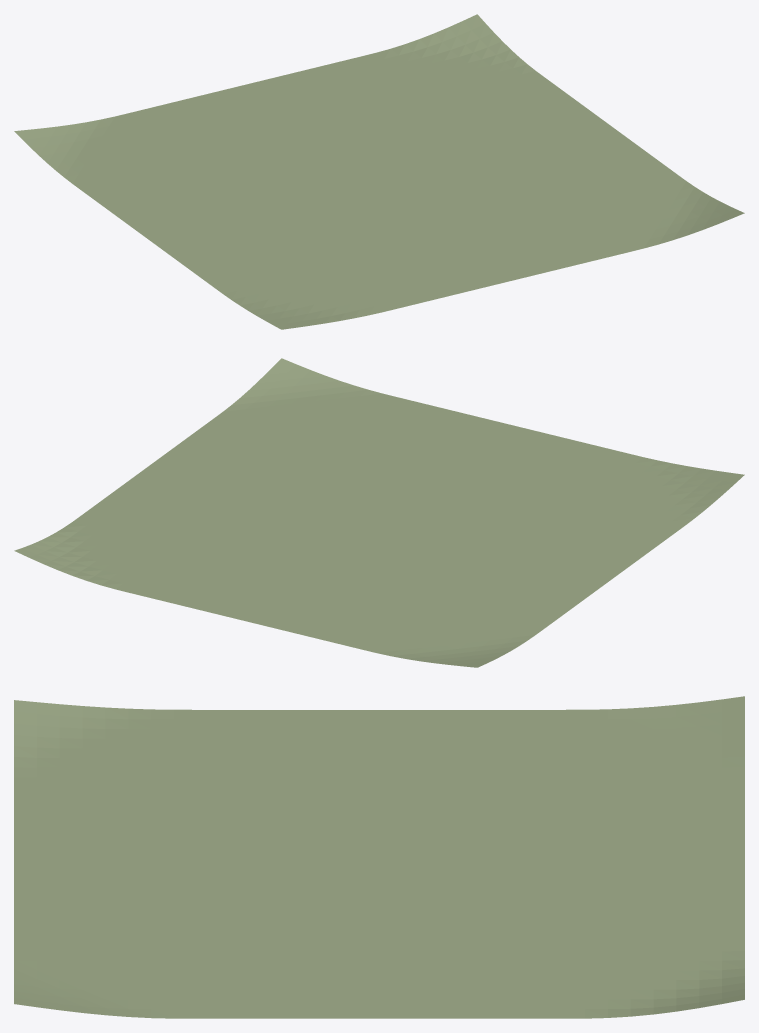
The model's file is gardens-6-2.glb.
The picture shows the model from 3 angles, top to bottom: view 1: azimuth 30°, elevation 25°; view 2: azimuth 150°, elevation 25°; view 3: azimuth 270°, elevation 25°; orthographic projection. The views are drawn at different scales.
Parts seen in each view (by area): view 1: gardens-6-2; view 2: gardens-6-2; view 3: gardens-6-2.
Boxes of the visible parts, x1,y1,x2,y2 form: gardens-6-2: [14, 14, 744, 329]; gardens-6-2: [14, 358, 744, 667]; gardens-6-2: [14, 696, 744, 1018].
Bounding box in the file's own units: 256 × 7.35 × 256.
